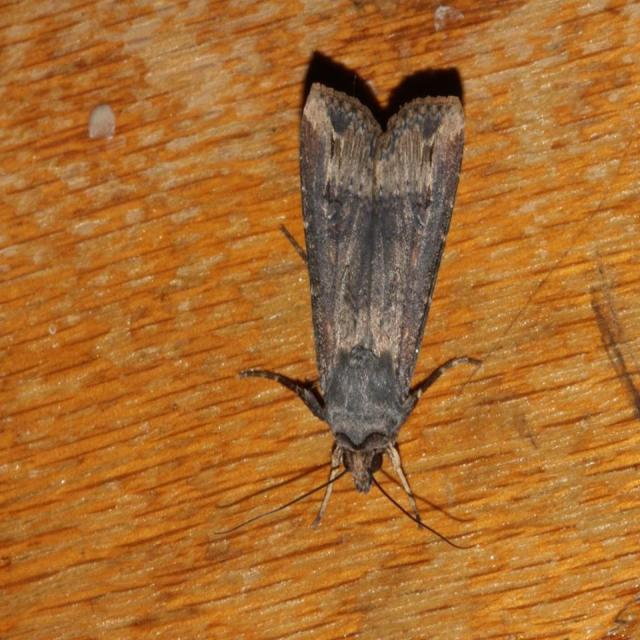black cutworm: (272, 70, 463, 504)
